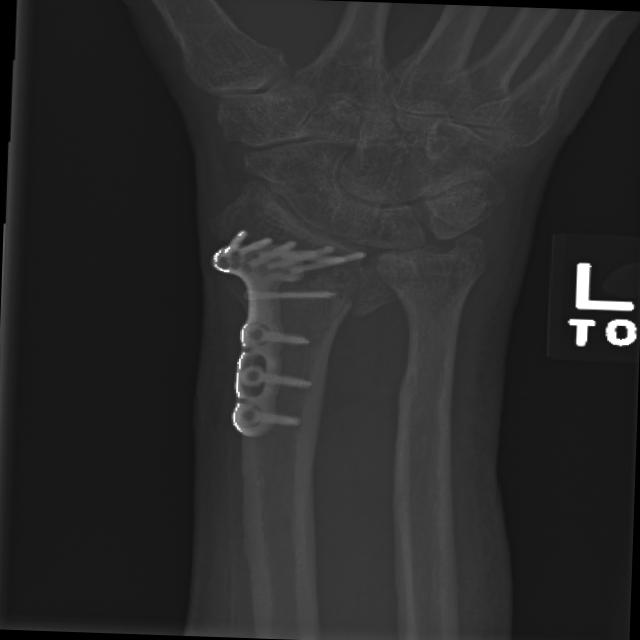wrist positive: (171, 185, 425, 350)
